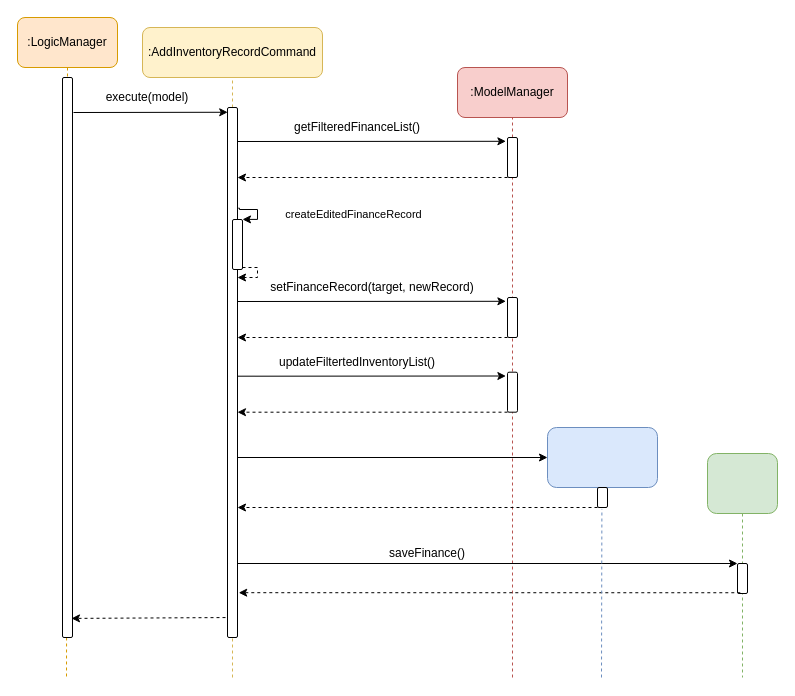
This 795x696 diagram has some shape labels left out. The shapes that lost their labels are listed below. From the top down, each one's centre as x and y in pixels, then its label:
the point at 602,457: :CommandResult
the point at 742,483: :Storage
